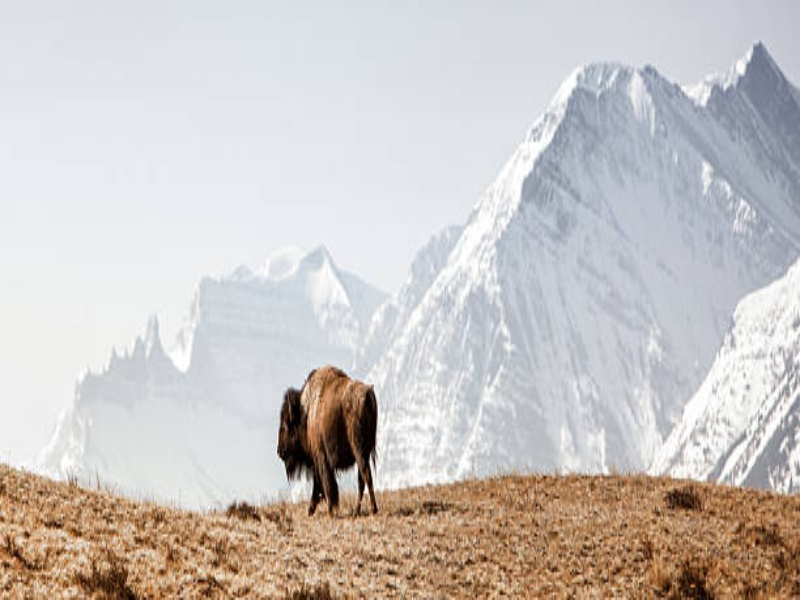buffalo: (265, 363, 390, 524)
